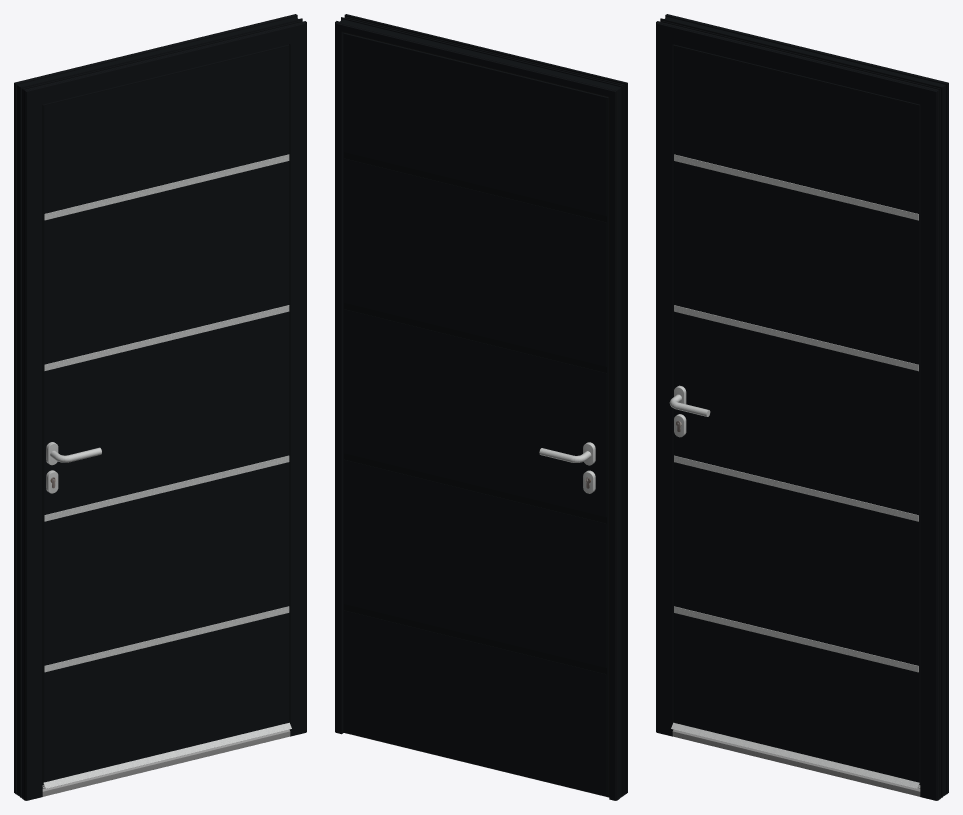
The picture shows the model from 3 angles, left to right: view 1: azimuth 30°, elevation 25°; view 2: azimuth 150°, elevation 25°; view 3: azimuth 330°, elevation 25°; orthographic projection.
Parts seen in each view (by area): view 1: bloco_25, aroFixo, alunox_16, aroMovel, rodapé, escovas, puxador001, monobloco; view 2: bloco_25, aroFixo, monobloco, aroMovel, puxador; view 3: bloco_25, aroFixo, alunox_16, aroMovel, rodapé, escovas, monobloco, puxador001.
Boxes of the visible parts, x1,y1,x2,y2 form: bloco_25: (44,46,288,782); aroFixo: (14,14,306,800); alunox_16: (44,154,289,672); aroMovel: (42,44,289,784); rodapé: (42,729,290,796); escovas: (42,722,291,788); puxador001: (46,442,101,493); monobloco: (44,46,288,781); bloco_25: (344,34,606,795); aroFixo: (335,14,627,800); monobloco: (344,98,607,796); aroMovel: (343,32,609,796); puxador: (539,442,595,493); bloco_25: (674,46,918,782); aroFixo: (656,14,948,800); alunox_16: (674,154,918,672); aroMovel: (673,44,920,784); rodapé: (672,729,920,796); escovas: (671,722,920,788); monobloco: (674,46,918,722); puxador001: (669,385,710,437).
Size of the model in its own units: 900 by 2165 by 209.
7 materials, 2 textured.
